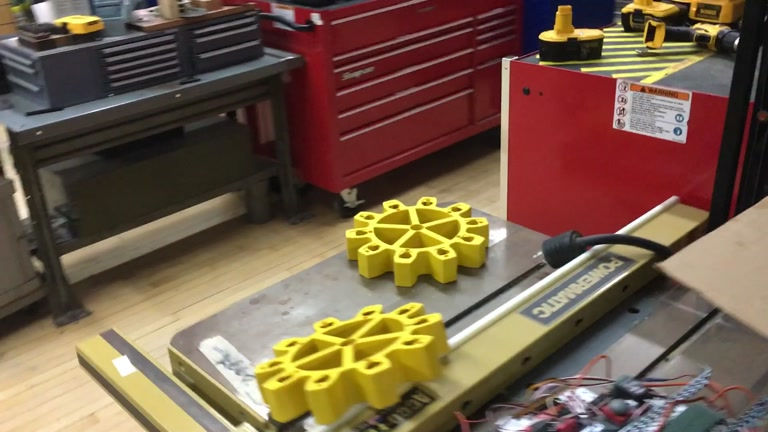gear: (254, 301, 448, 425), (346, 196, 489, 287)
